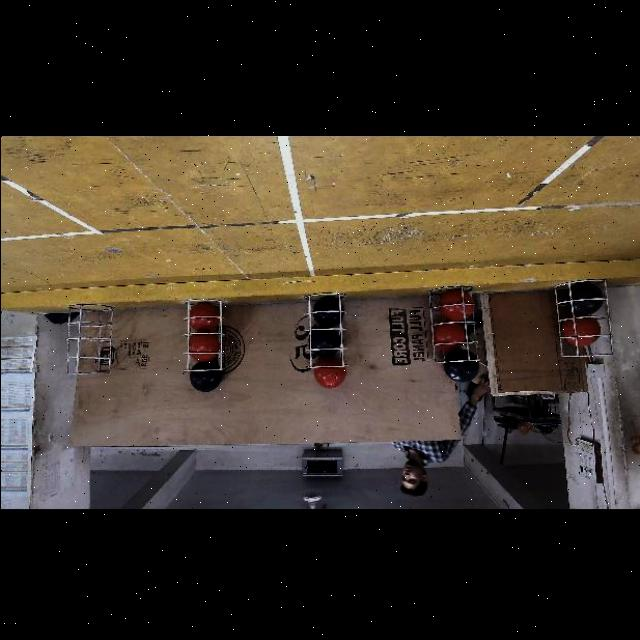P: (444, 349, 480, 383), (566, 284, 604, 316), (189, 362, 222, 393), (308, 330, 339, 356), (312, 300, 342, 326)
R: (439, 288, 473, 320), (312, 358, 346, 389), (563, 317, 599, 345), (189, 302, 221, 332), (434, 323, 464, 351), (190, 334, 218, 361)
S: (422, 288, 480, 372), (551, 282, 613, 358), (298, 295, 350, 375), (63, 304, 117, 378), (180, 302, 228, 376)
